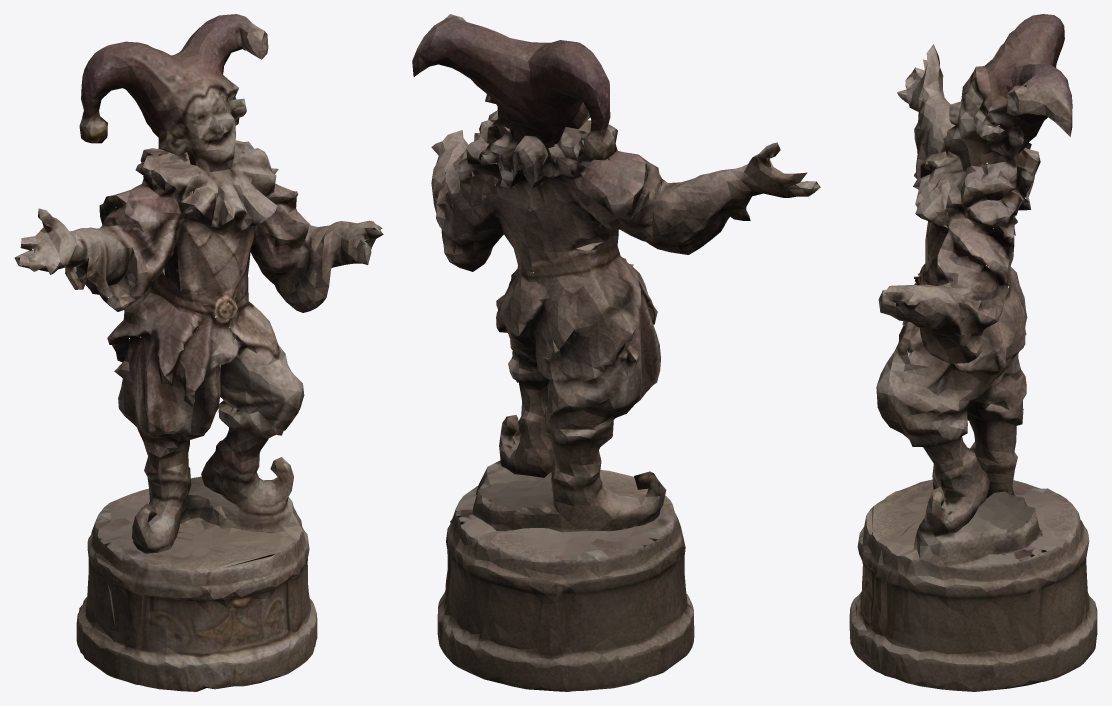
File: park_jester_statue_1117.glb
The picture shows the model from 3 angles, left to right: view 1: azimuth 30°, elevation 25°; view 2: azimuth 150°, elevation 25°; view 3: azimuth 270°, elevation 25°; orthographic projection. The views are drawn at different scales.
Parts seen in each view (by area): view 1: world; view 2: world; view 3: world.
Boxes of the visible parts, x1=… form: world: x1=14, y1=14, x2=383, y2=691; world: x1=412, y1=14, x2=820, y2=691; world: x1=849, y1=14, x2=1097, y2=691.
Size of the model in its own units: 0.6485 by 1 by 0.3737.
1 material, 1 textured.
